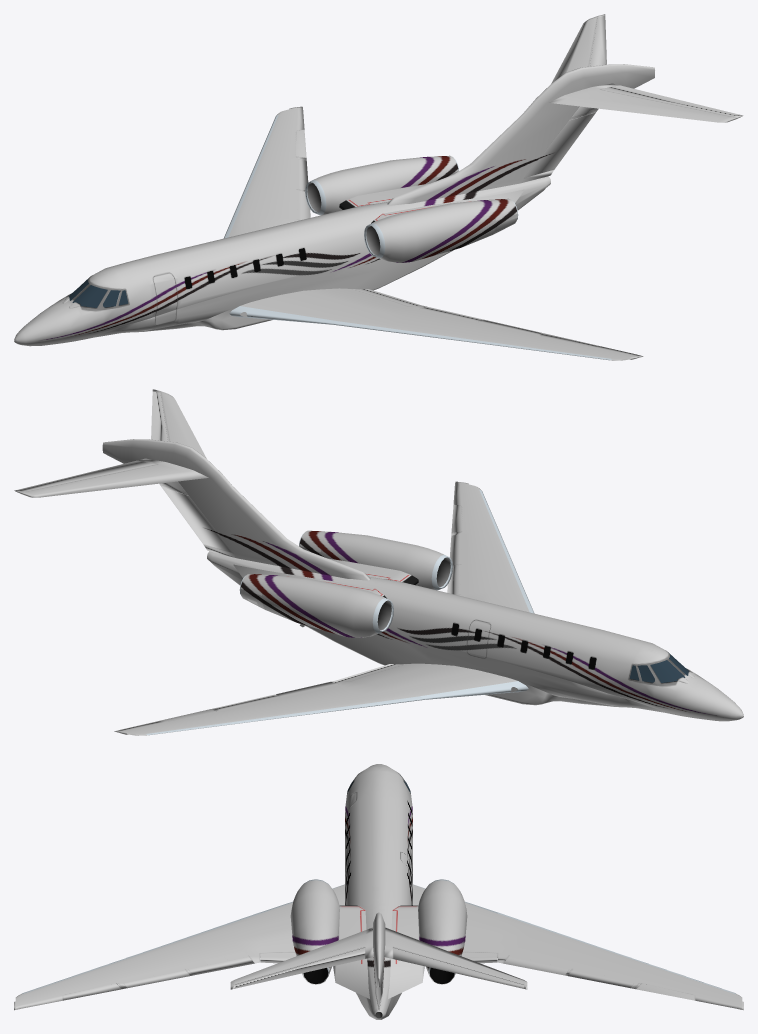
The model's file is citation-x.glb.
The picture shows the model from 3 angles, top to bottom: view 1: azimuth 30°, elevation 25°; view 2: azimuth 150°, elevation 25°; view 3: azimuth 270°, elevation 25°; orthographic projection. The views are drawn at different scales.
Visible parts, largest first — view 1: Citation X exterior; view 2: Citation X exterior; view 3: Citation X exterior.
Part boxes in pixels (x1,y1,x2,y2): Citation X exterior: (14, 14, 743, 360); Citation X exterior: (14, 389, 743, 735); Citation X exterior: (14, 764, 743, 1019).
Size of the model in its own units: 21.94 by 5.37 by 19.64.
4 materials, 1 textured.
